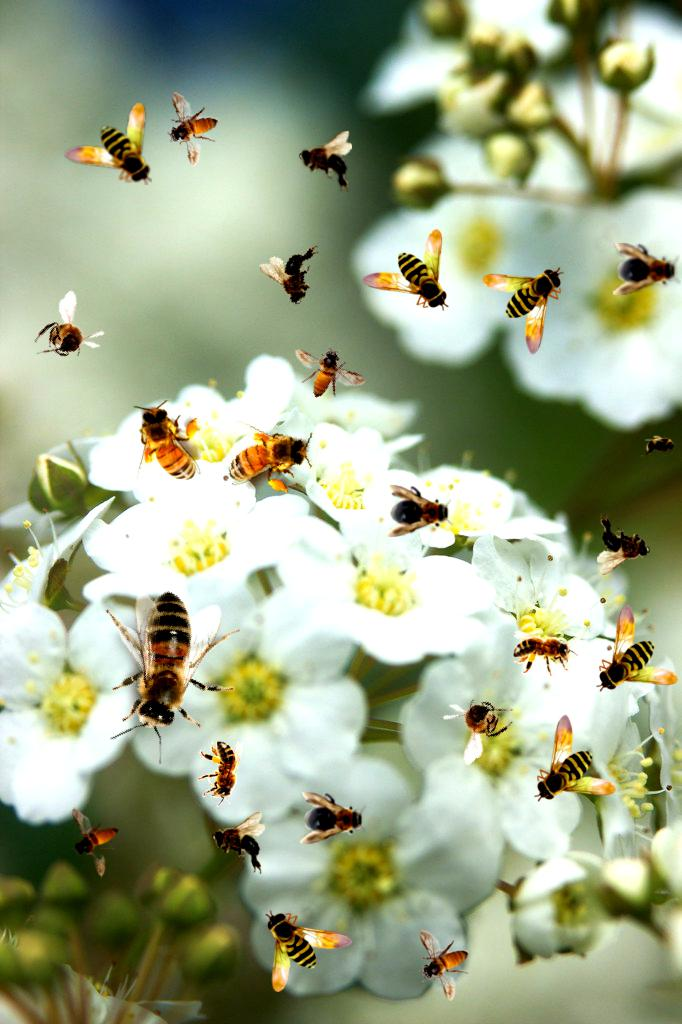Bee: (55, 558, 280, 780), (213, 414, 319, 501), (22, 289, 115, 383), (432, 675, 525, 767), (282, 328, 368, 415), (64, 103, 152, 185), (596, 604, 678, 692), (265, 910, 353, 992), (534, 714, 616, 802), (361, 229, 449, 311), (482, 267, 564, 355), (133, 400, 201, 493), (257, 241, 334, 313), (162, 91, 222, 170), (70, 807, 120, 878), (419, 930, 469, 1001), (386, 485, 454, 537), (613, 243, 681, 295), (300, 792, 368, 844), (597, 513, 650, 575), (299, 131, 352, 193), (212, 812, 265, 874), (198, 741, 243, 807), (513, 631, 579, 676), (641, 435, 681, 457)
